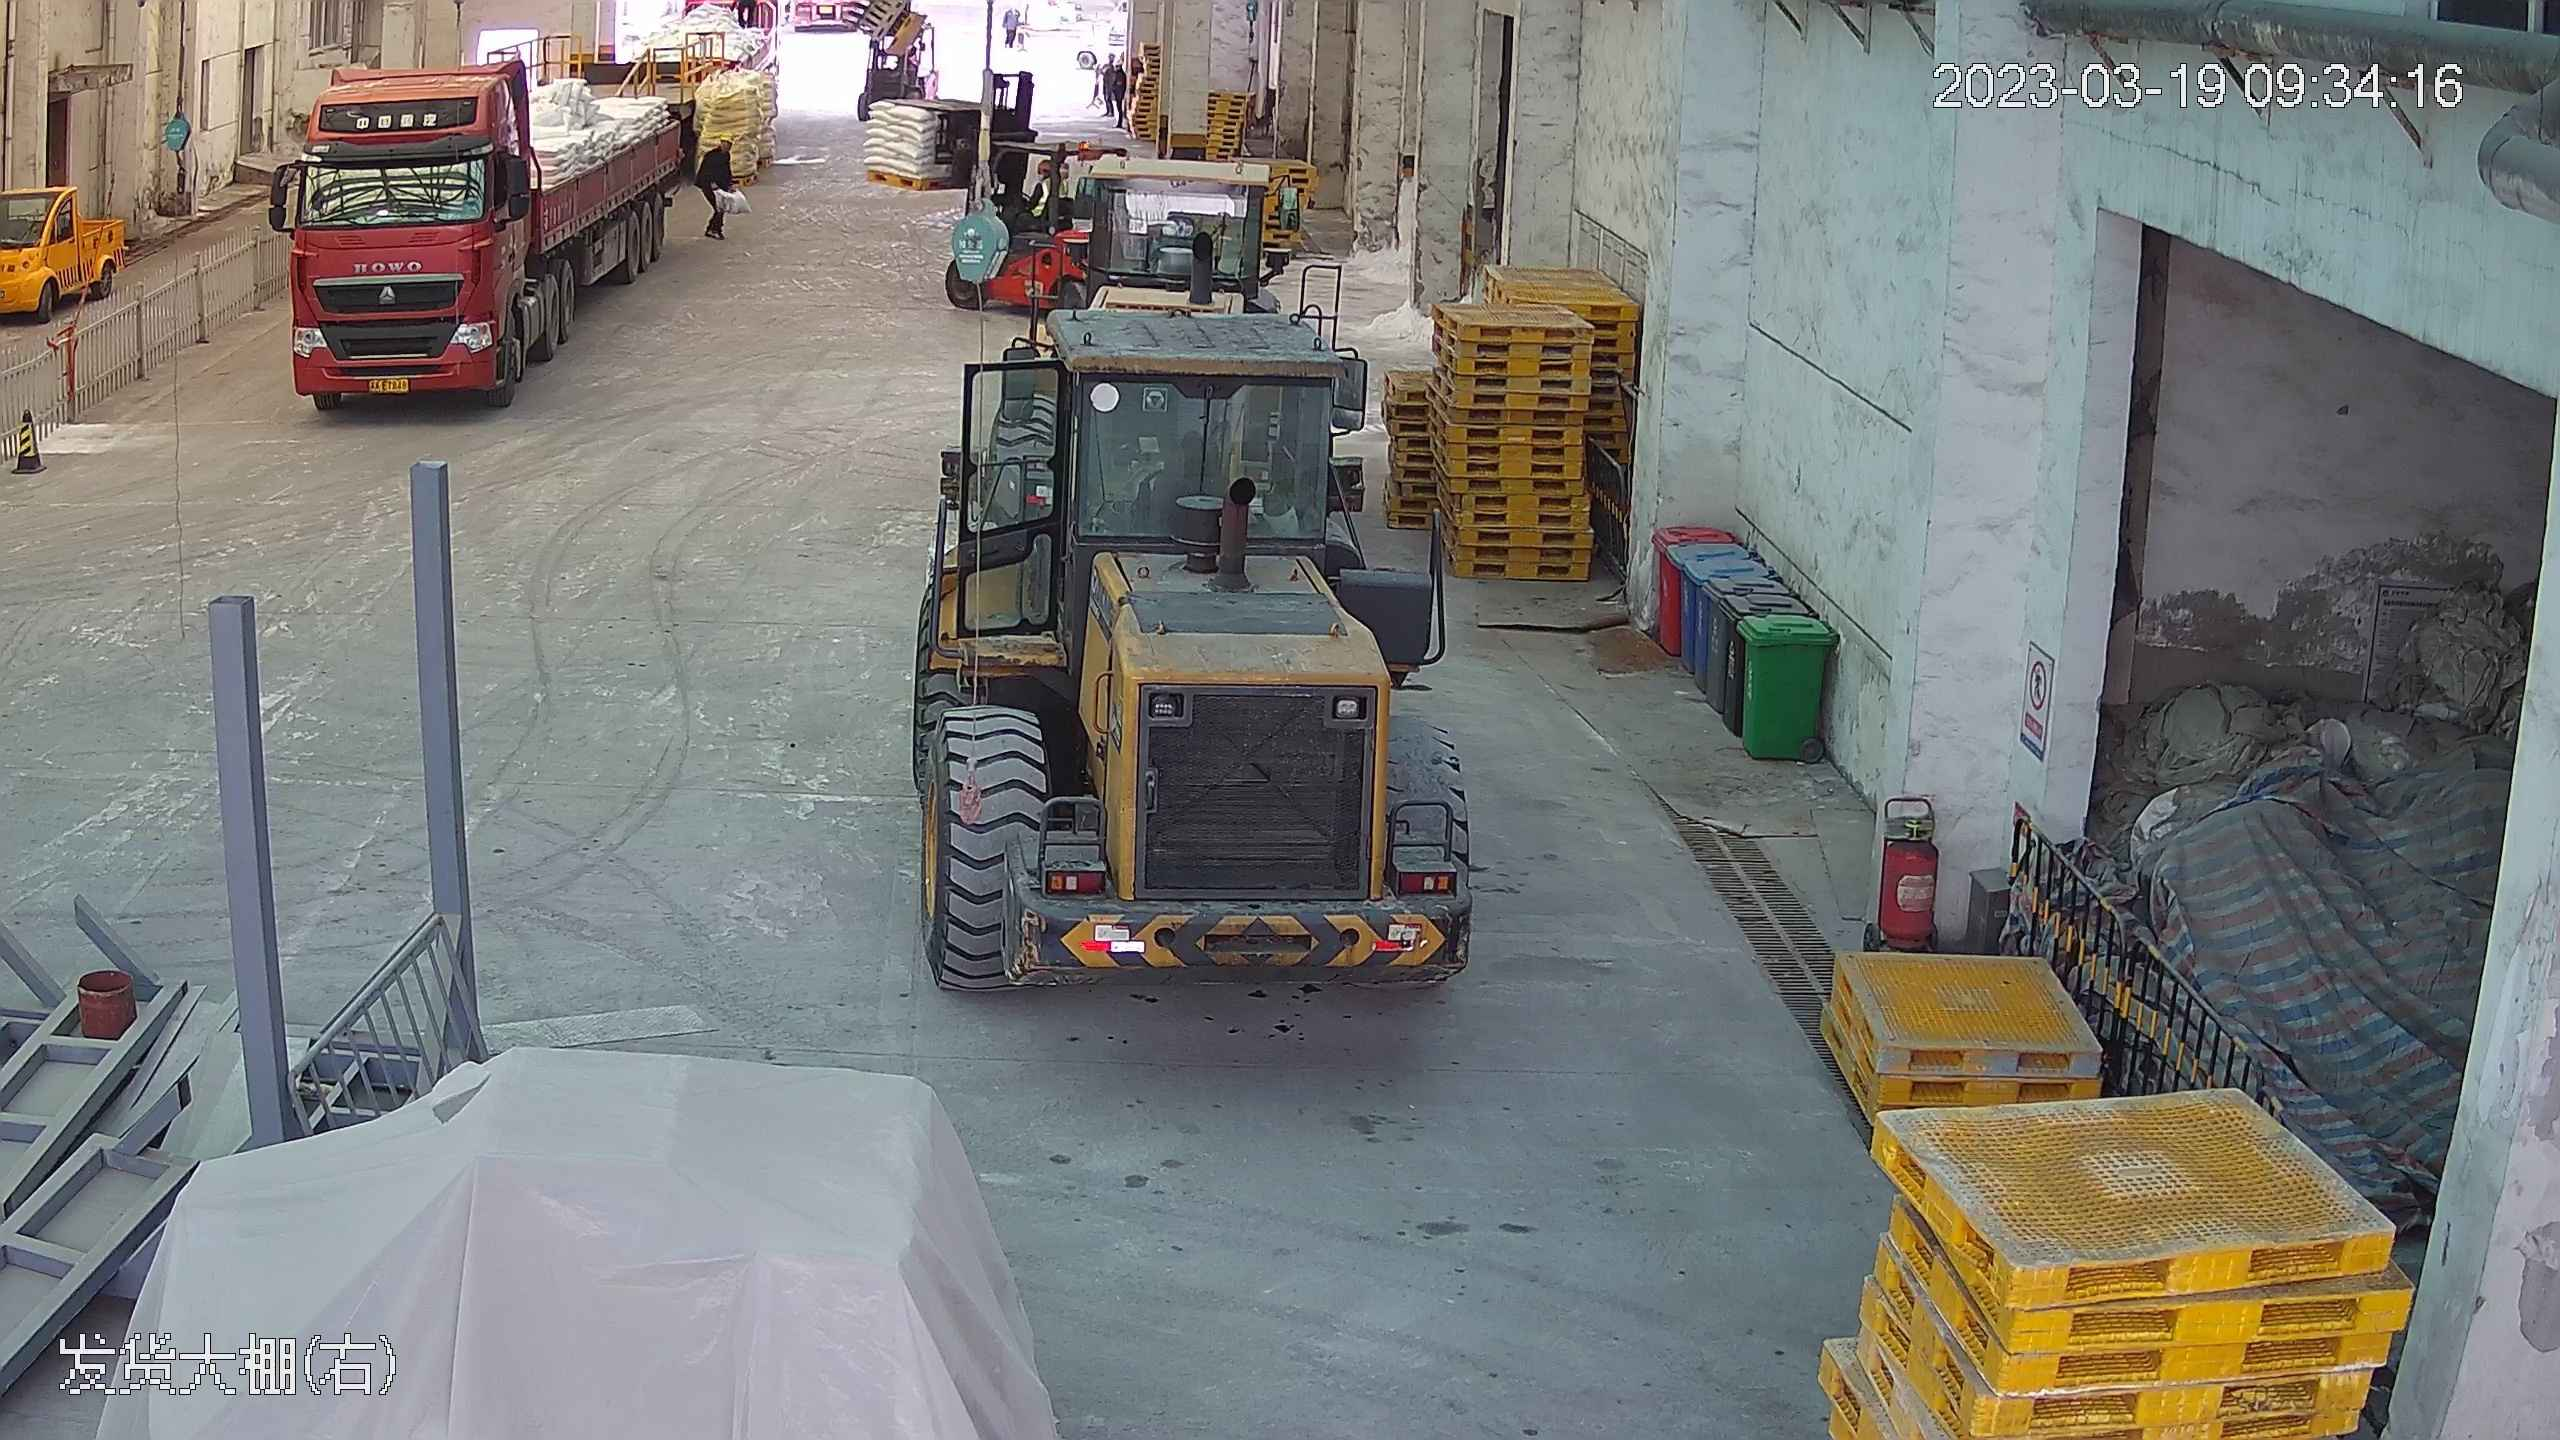head: (697, 132, 733, 174)
people: (694, 131, 735, 243)
truck: (277, 22, 731, 410)
